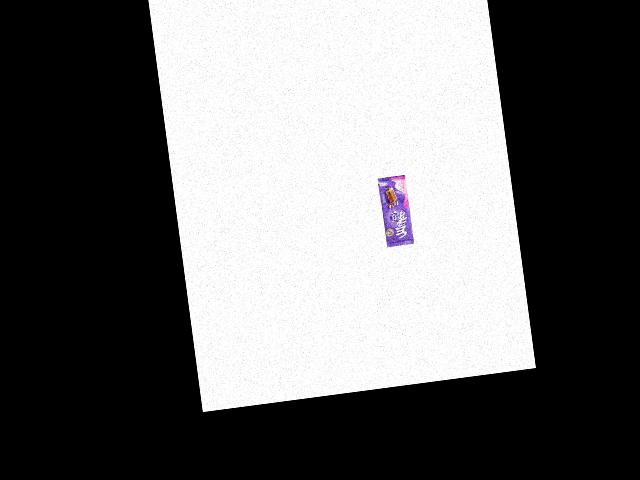chocolate: (376, 174, 414, 248)
